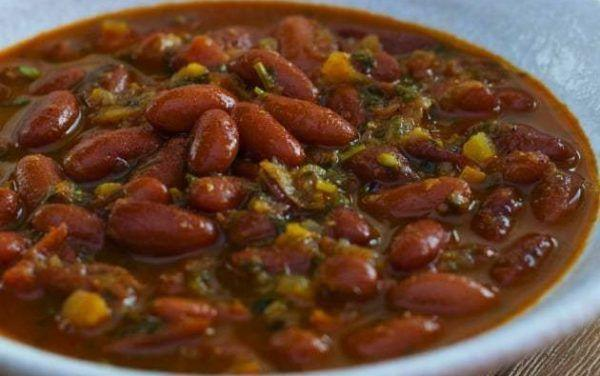RajmaCurry: (0, 4, 600, 376)
